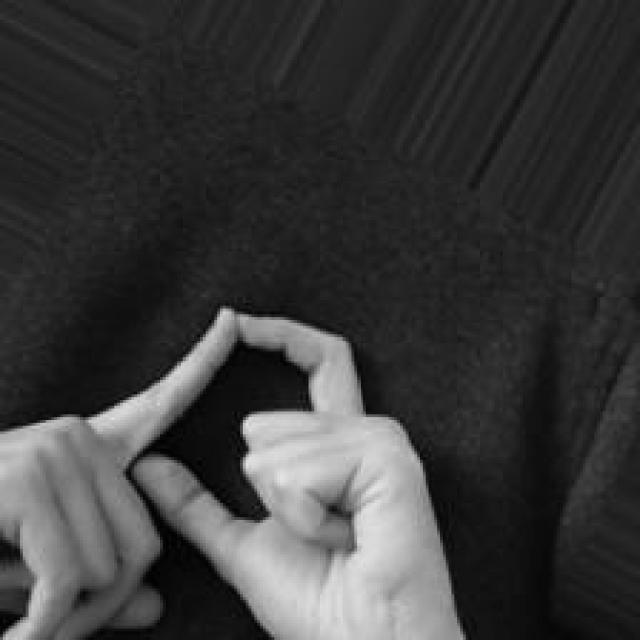D: (0, 303, 471, 640)
